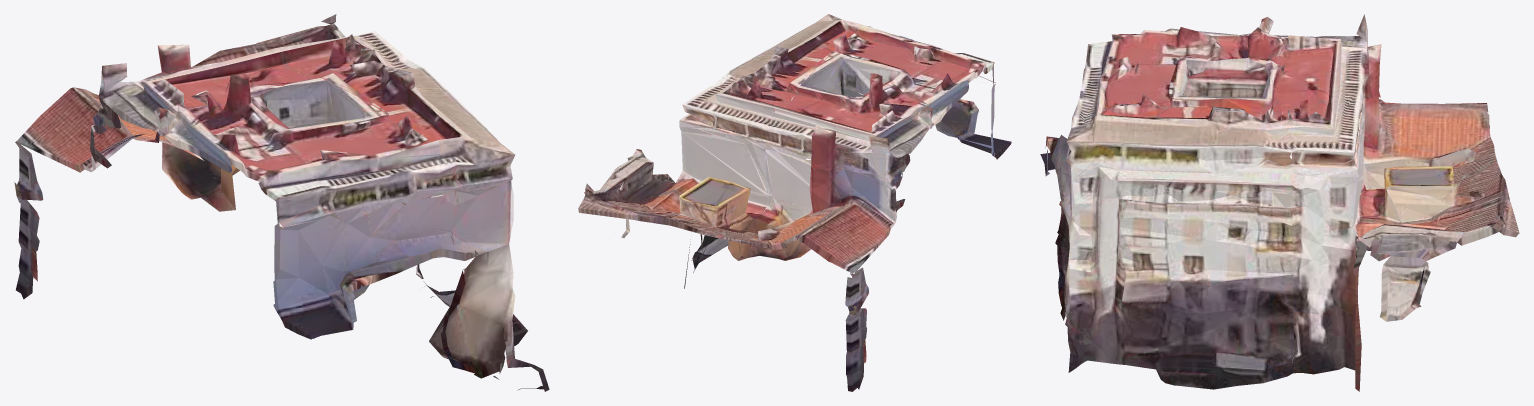
3 renders of one model, left to right at view 1: azimuth 30°, elevation 25°; view 2: azimuth 150°, elevation 25°; view 3: azimuth 270°, elevation 25°, orthographic. The views are drawn at different scales.
Parts seen in each view (by area): view 1: Mesh_0; view 2: Mesh_0; view 3: Mesh_0.
Boxes of the visible parts, x1,y1,x2,y2 form: Mesh_0: (14,14,549,391); Mesh_0: (578,14,1011,391); Mesh_0: (1040,14,1519,391).
Bounding box in the file's own units: 30.59 × 24.52 × 41.51.
2 materials, 2 textured.
